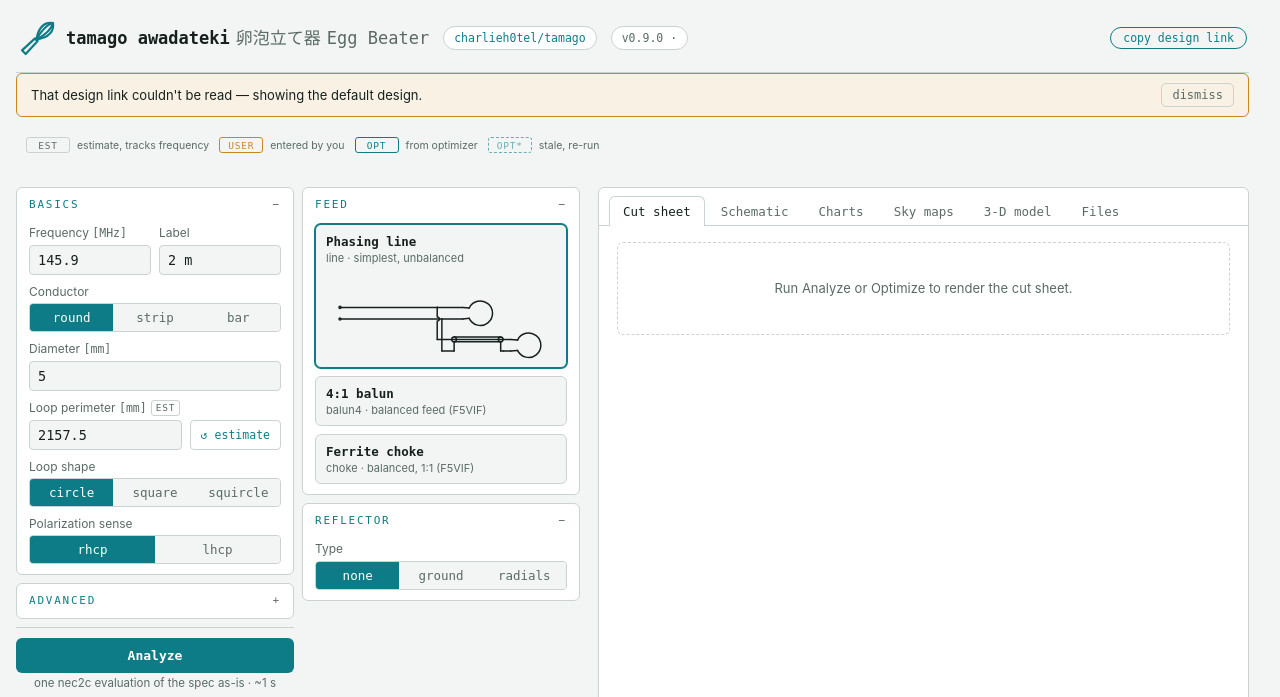
Test case: malformed share link › warns and does not load the saved design
Expected: the message "That design link couldn't be read — showing the default design. dismiss" is shown, [16,73,1249,117]
Expected: the number field with id "freq" holds "145.9", [29,245,151,275]
# The banner dismisses.
Click the button "dismiss" at {"x": 1198, "y": 95}, box [1161,83,1234,107]
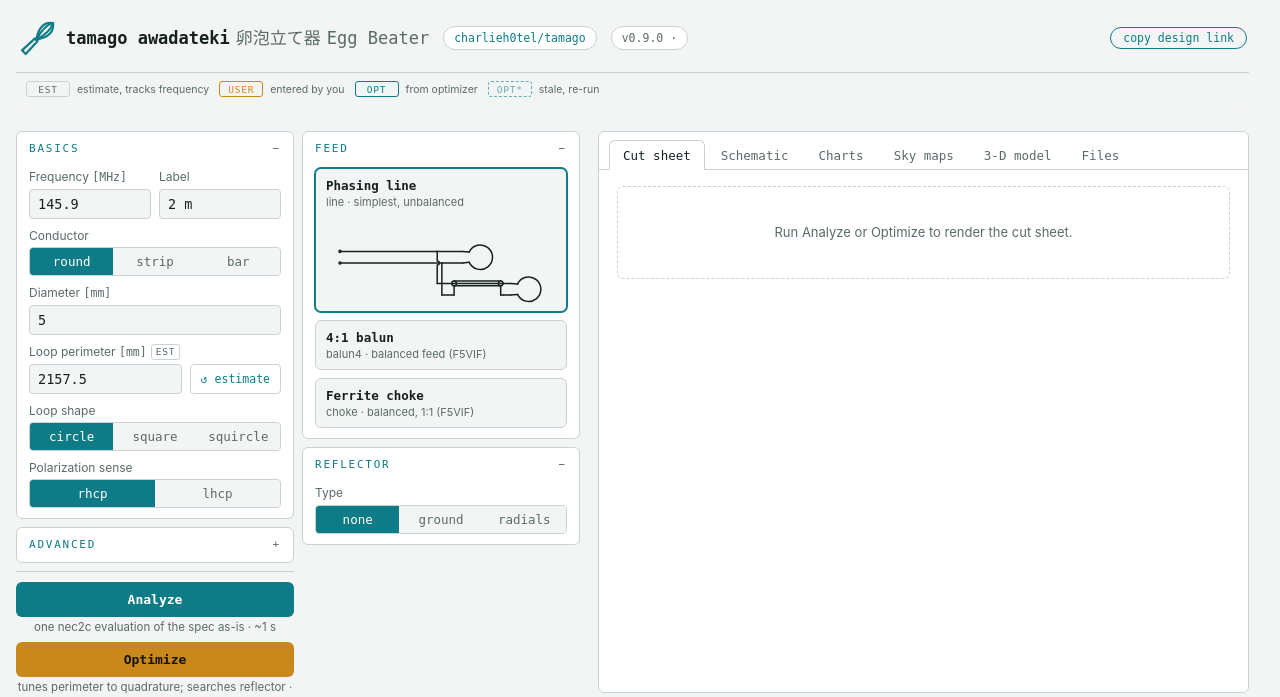
Result: the message with class "link-banner" is gone
